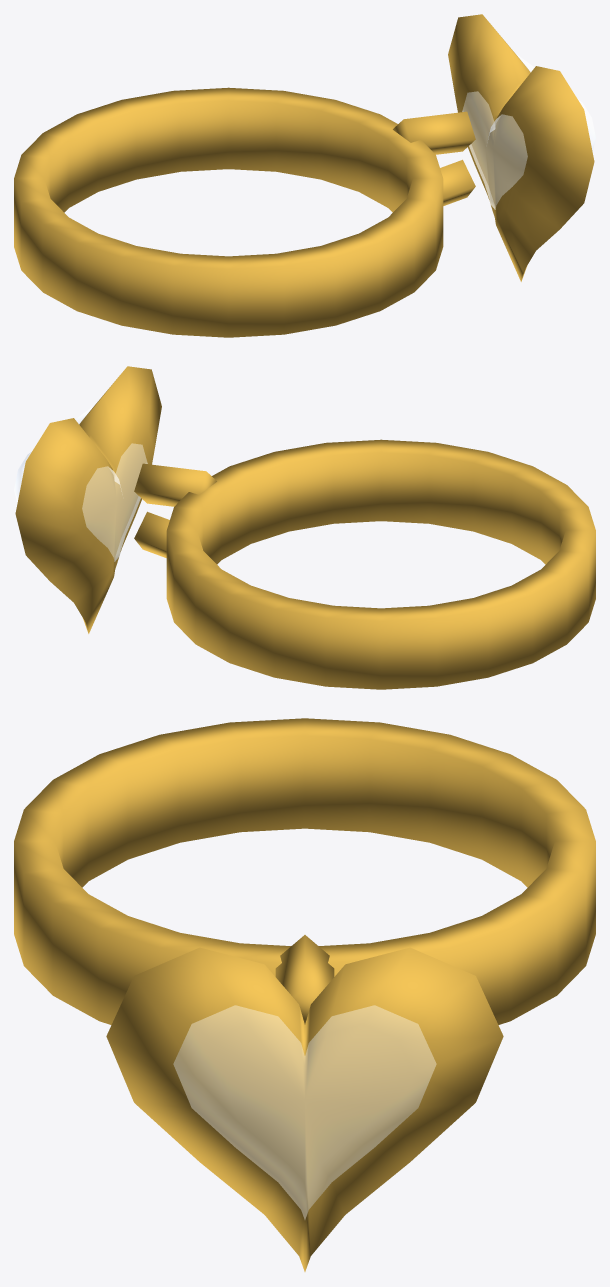
Rendered from heart_ring.glb.
3 views of the same model, one above another, from view 1: azimuth 30°, elevation 25°; view 2: azimuth 150°, elevation 25°; view 3: azimuth 270°, elevation 25° (orthographic). The views are drawn at different scales.
Parts seen in each view (by area): view 1: heart_ring; view 2: heart_ring; view 3: heart_ring.
Boxes of the visible parts, left/top/right/bottom form: heart_ring: left=14, top=14, right=595, bottom=337; heart_ring: left=14, top=366, right=595, bottom=689; heart_ring: left=14, top=718, right=595, bottom=1271.
Size of the model in its own units: 0.0283 by 0.0122 by 0.0199.
